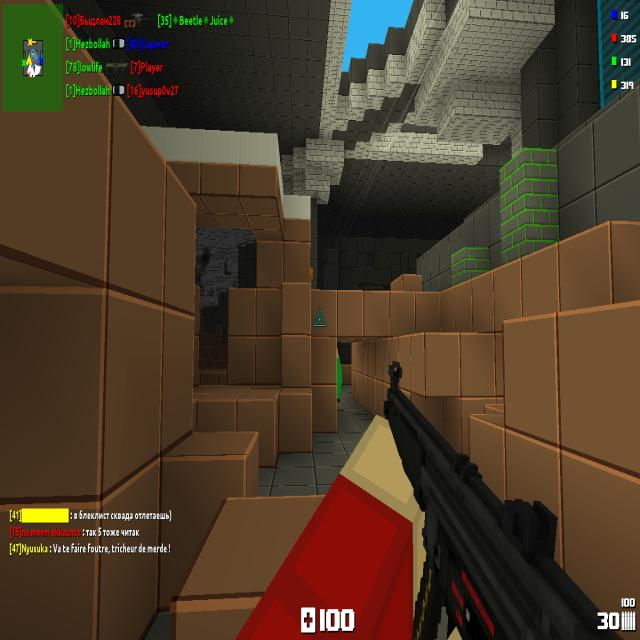enemy: (336, 346, 343, 403)
